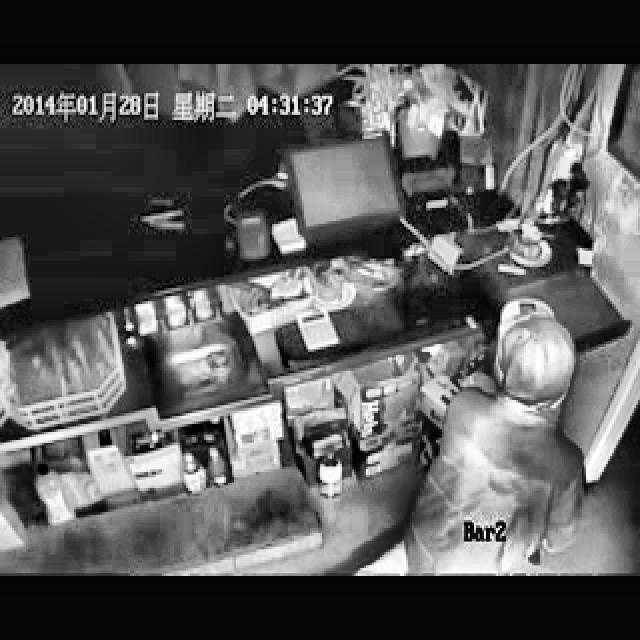burglary: (394, 279, 594, 575)
